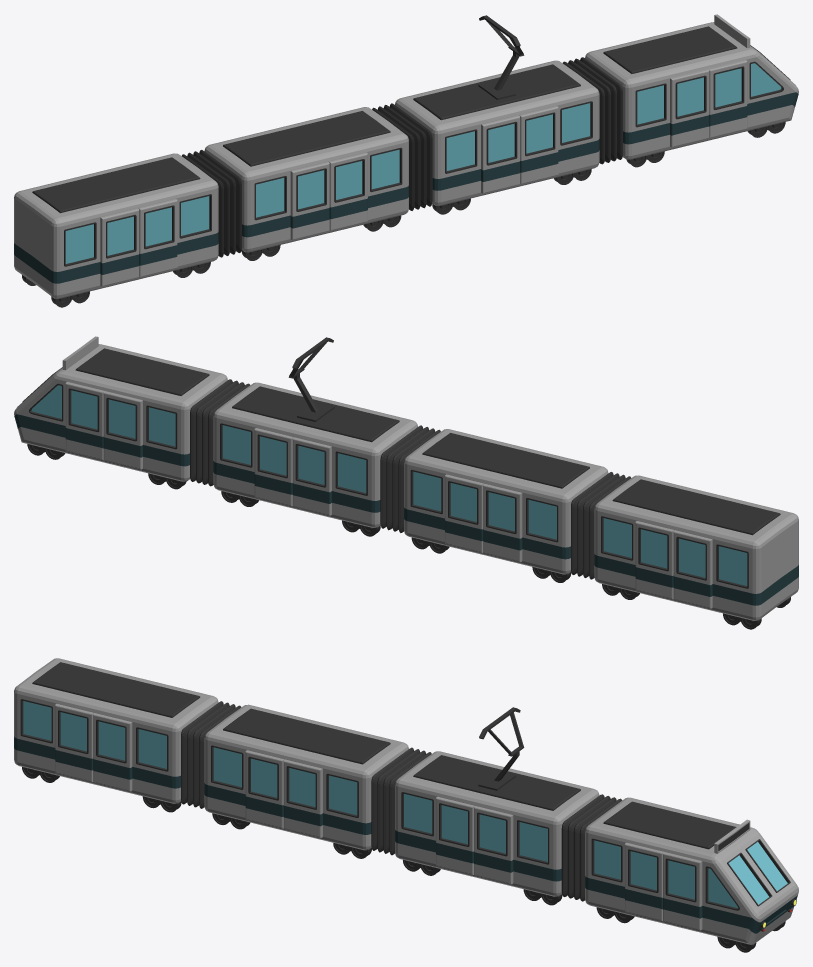
Rendered from train.glb.
The picture shows the model from 3 angles, top to bottom: view 1: azimuth 30°, elevation 25°; view 2: azimuth 150°, elevation 25°; view 3: azimuth 330°, elevation 25°; orthographic projection.
Parts seen in each view (by area): view 1: wagon_3, wagon_1, wagon_2, Driving, Connection; view 2: wagon_3, wagon_1, wagon_2, Driving, Connection; view 3: Driving, wagon_1, wagon_2, wagon_3, Connection.
Boxes of the visible parts, x1,y1,x2,y2 form: wagon_3: (14, 153, 218, 307); wagon_1: (395, 15, 599, 214); wagon_2: (204, 107, 408, 260); Driving: (585, 14, 798, 167); Connection: (182, 57, 622, 257); wagon_3: (594, 475, 798, 629); wagon_1: (213, 337, 417, 536); wagon_2: (404, 429, 608, 582); Driving: (14, 336, 227, 489); Connection: (190, 379, 630, 579); Driving: (585, 797, 798, 952); wagon_1: (395, 707, 599, 905); wagon_2: (204, 704, 408, 858); wagon_3: (14, 658, 218, 812); Connection: (181, 701, 622, 901).
Size of the model in its own units: 29.7 by 6 by 3.33.
